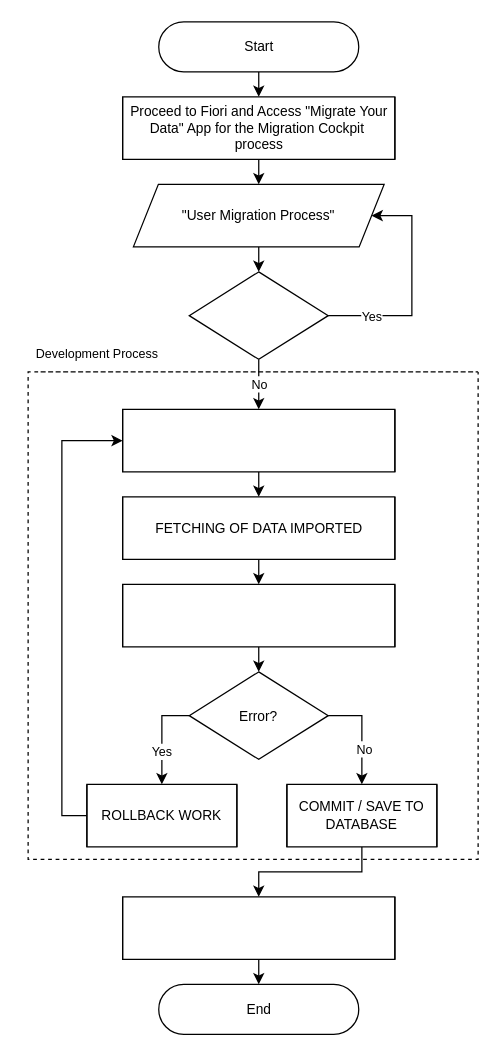
Some shapes in this 501 by 1056 pixel diagram are drawn without their labels. The shapes that lost their labels are listed below. From the top down, each one's box as (x1, y1, x2, y2) in pixels, then its label:
(188, 271, 328, 359): Empty Load File?
(121, 408, 395, 472): CHECK EVERY ITEM LINE IN LOAD FILE
(121, 583, 395, 647): ZFM_CUSTCCODE_EXT
(121, 896, 395, 959): Migration Successful
